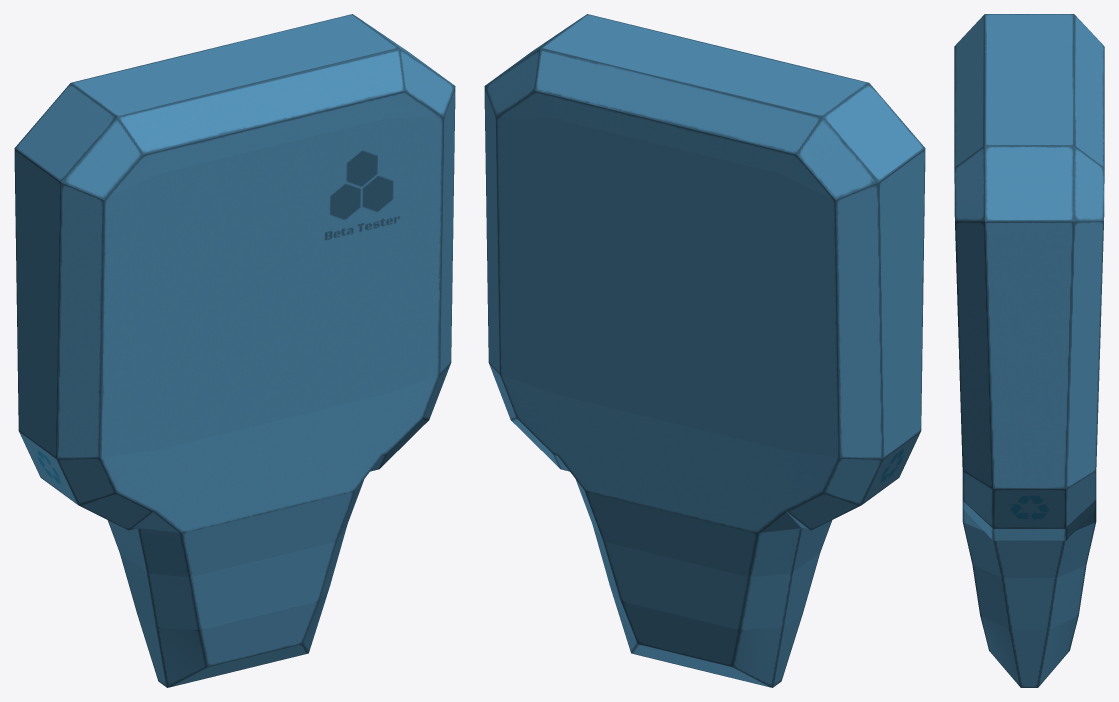
The model's file is Player_body.gltf.
3 renders of one model, left to right at view 1: azimuth 30°, elevation 25°; view 2: azimuth 150°, elevation 25°; view 3: azimuth 270°, elevation 25°, orthographic. The views are drawn at different scales.
Parts seen in each view (by area): view 1: player_body; view 2: player_body; view 3: player_body.
Part boxes in pixels (x1,y1,x2,y2): player_body: (14, 14, 455, 687); player_body: (484, 14, 925, 687); player_body: (954, 14, 1104, 687).
Bounding box in the file's own units: 1.57 × 2.29 × 0.5401.
1 material, 1 textured.
